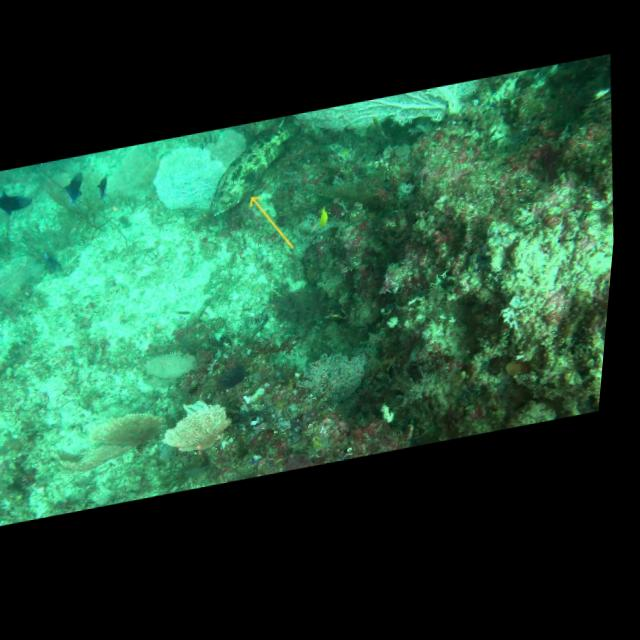Groupers: (199, 111, 312, 216)
